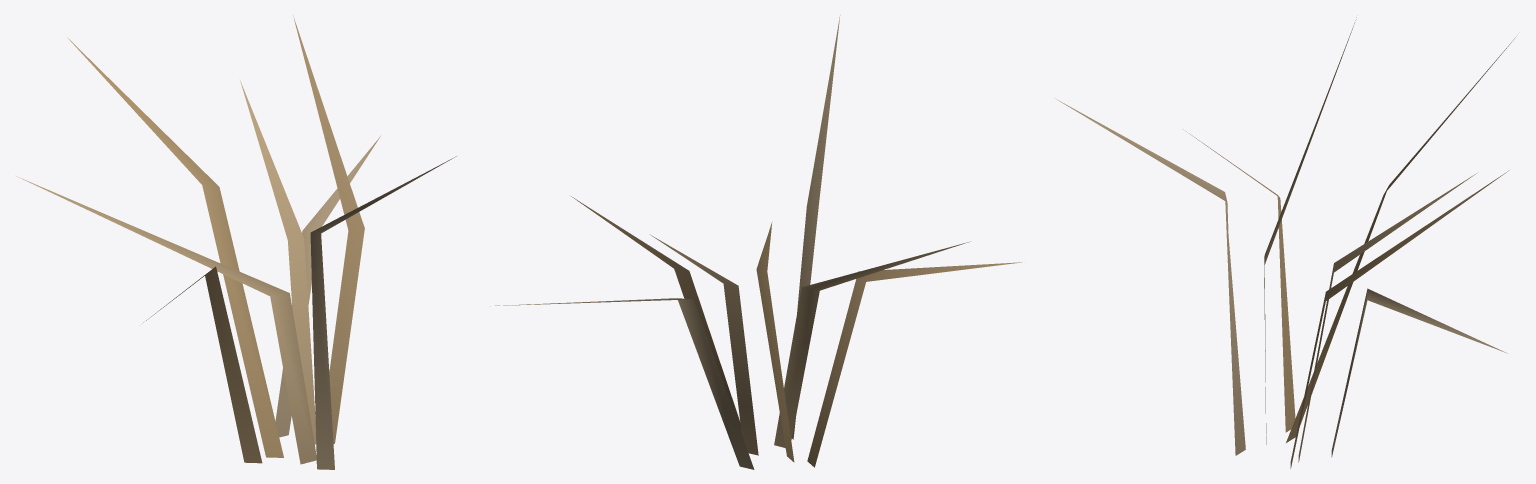
File: Grass_h_TwoS_03.fbx
3 views of the same model, side by side, from view 1: azimuth 30°, elevation 25°; view 2: azimuth 150°, elevation 25°; view 3: azimuth 270°, elevation 25° (orthographic). The views are drawn at different scales.
Parts seen in each view (by area): view 1: Grass_h_TwoS_03; view 2: Grass_h_TwoS_03; view 3: Grass_h_TwoS_03.
Boxes of the visible parts, x1,y1,x2,y2 form: Grass_h_TwoS_03: [16, 15, 456, 469]; Grass_h_TwoS_03: [495, 15, 1021, 469]; Grass_h_TwoS_03: [1055, 17, 1516, 468].
Size of the model in its own units: 45.7 by 36.92 by 41.72.
